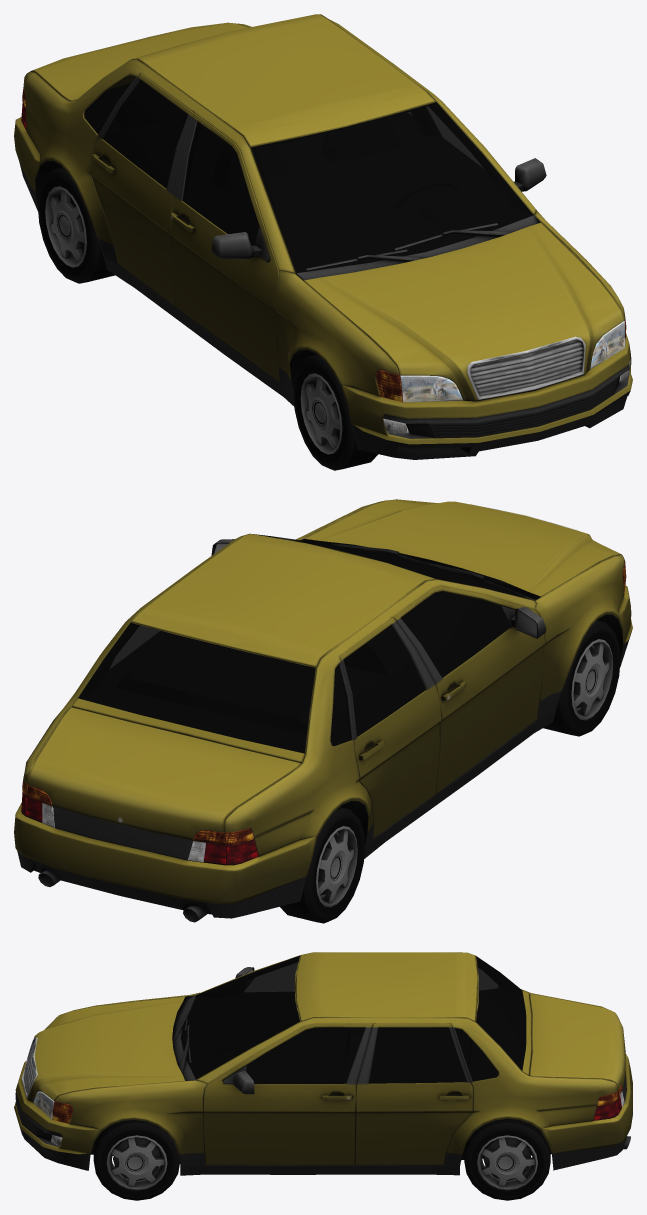
The model's file is car_sedan.glb.
3 renders of one model, top to bottom at view 1: azimuth 30°, elevation 25°; view 2: azimuth 150°, elevation 25°; view 3: azimuth 270°, elevation 25°, orthographic. The views are drawn at different scales.
Visible parts, largest first — view 1: Sedan_Body, Wheel_A002, Wheel_A003; view 2: Sedan_Body, Wheel_A003, Wheel_A002; view 3: Sedan_Body, Wheel_A001, Wheel_A.
Part boxes in pixels (x1,y1,x2,y2): Sedan_Body: (14,14,632,459); Wheel_A002: (293,354,378,470); Wheel_A003: (38,167,114,283); Sedan_Body: (14,499,632,922); Wheel_A003: (280,807,364,923); Wheel_A002: (543,620,620,736); Sedan_Body: (14,952,632,1175); Wheel_A001: (464,1118,550,1200); Wheel_A: (93,1120,179,1200).
Bounding box in the file's own units: 1.94 × 1.34 × 4.36.
4 materials, 3 textured.
